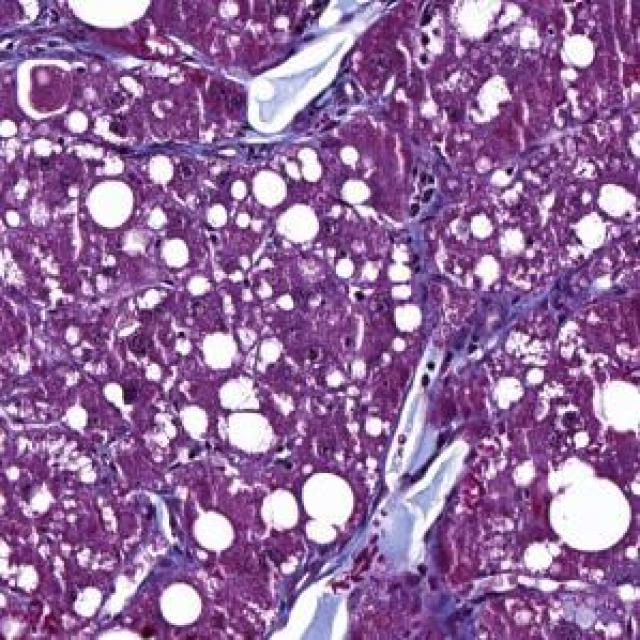fibrosis: (398, 180, 499, 336)
